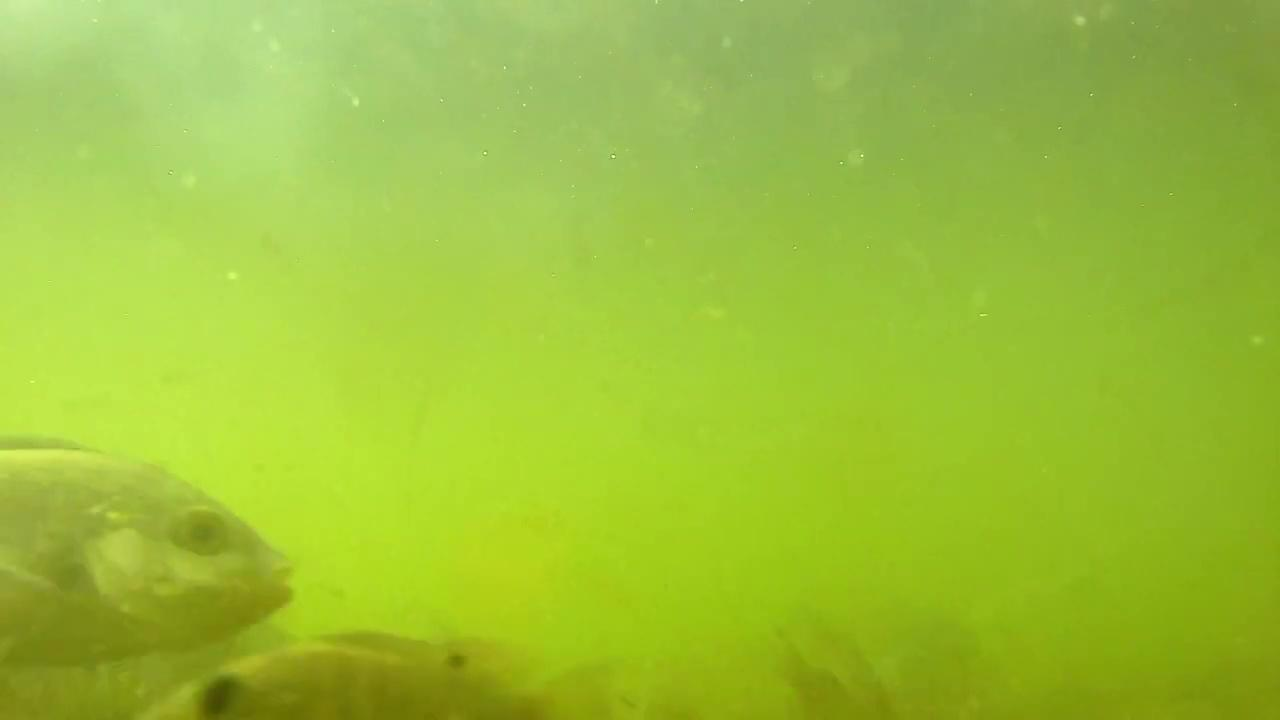Tilapia: (0, 428, 313, 680)
